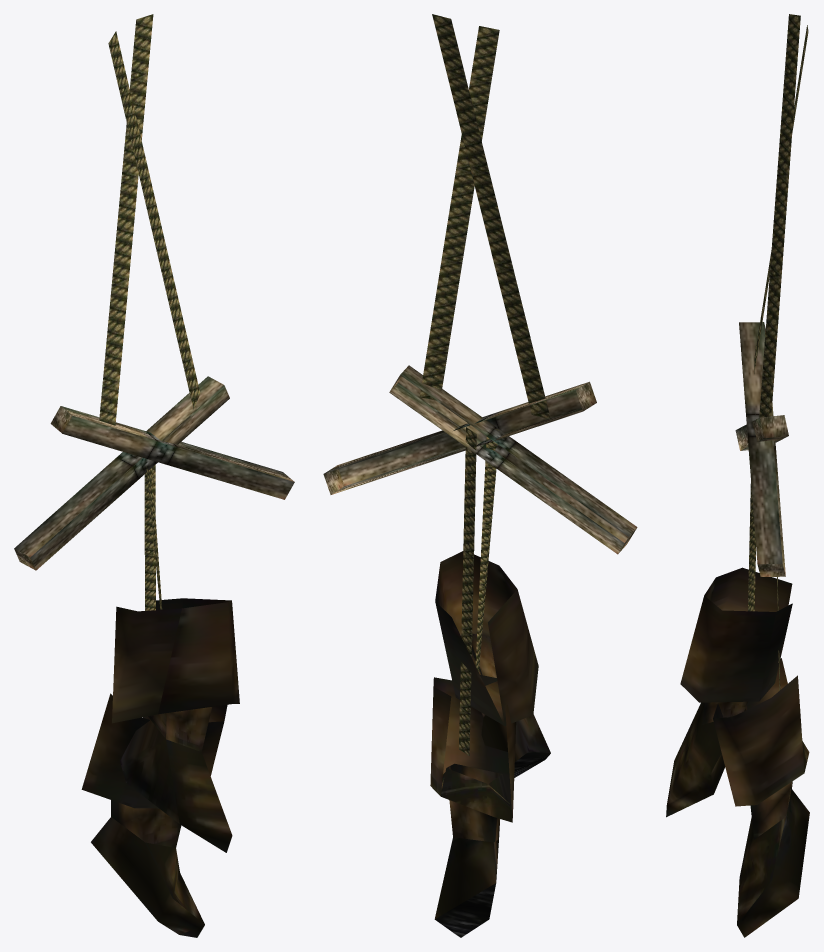
File: OC_WEAPON_ARMORSHOES.glb
3 views of the same model, side by side, from view 1: azimuth 30°, elevation 25°; view 2: azimuth 150°, elevation 25°; view 3: azimuth 270°, elevation 25° (orthographic). The views are drawn at different scales.
Parts seen in each view (by area): view 1: Mesh; view 2: Mesh; view 3: Mesh.
Boxes of the visible parts, left/top/right/bottom form: Mesh: left=14, top=14, right=294, bottom=937; Mesh: left=323, top=14, right=637, bottom=937; Mesh: left=666, top=14, right=809, bottom=937.
Size of the model in its own units: 1.03 by 3.18 by 0.4606.
2 materials, 2 textured.
